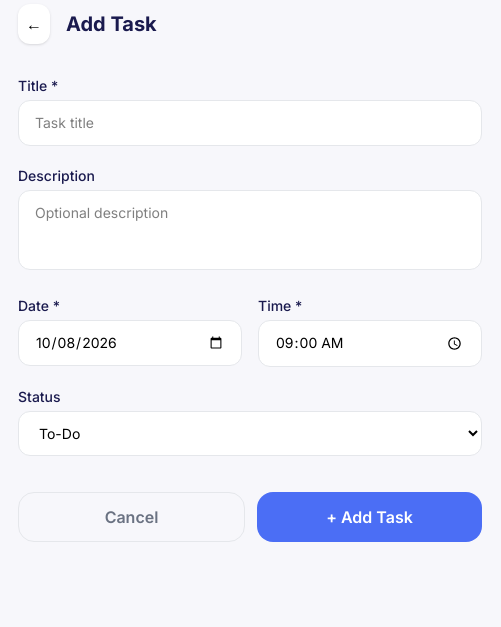
TaskFormPage › shows progress field when status is "progress"
Select "In Progress" in the dropdown labelled "Status" at (250, 433), box [18,411,482,456]
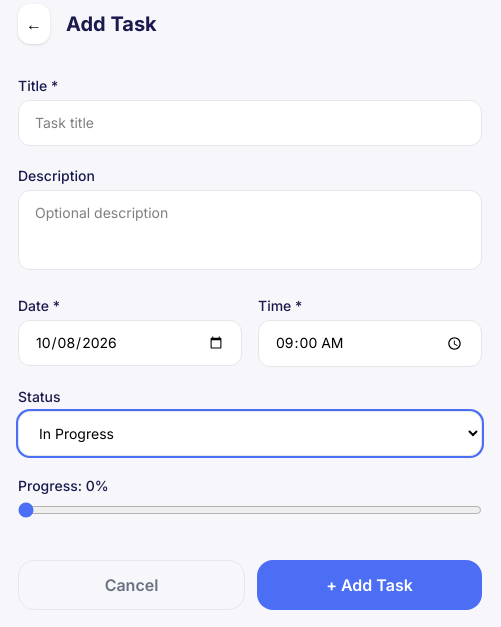
Now the slider labelled "Progress: 0%" is shown, box [18,502,482,518]
